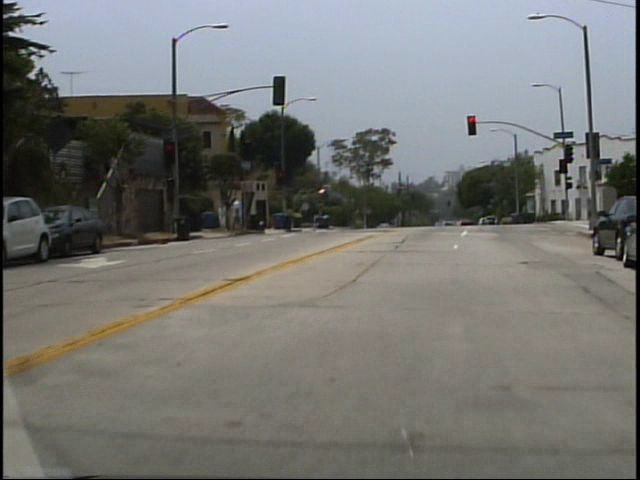person: (235, 197, 251, 239), (223, 203, 232, 235)
